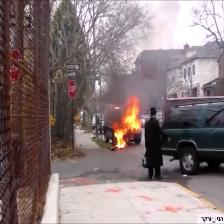fire: (103, 94, 147, 153)
smoke: (104, 0, 177, 106)
